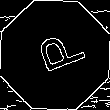P_W: (25, 29, 85, 81)
